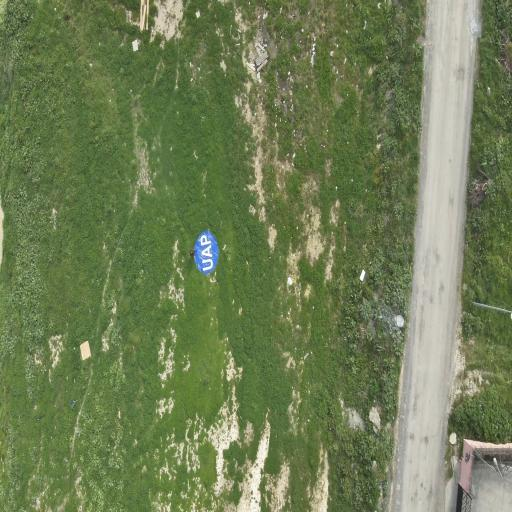uap: (194, 231, 218, 274)
